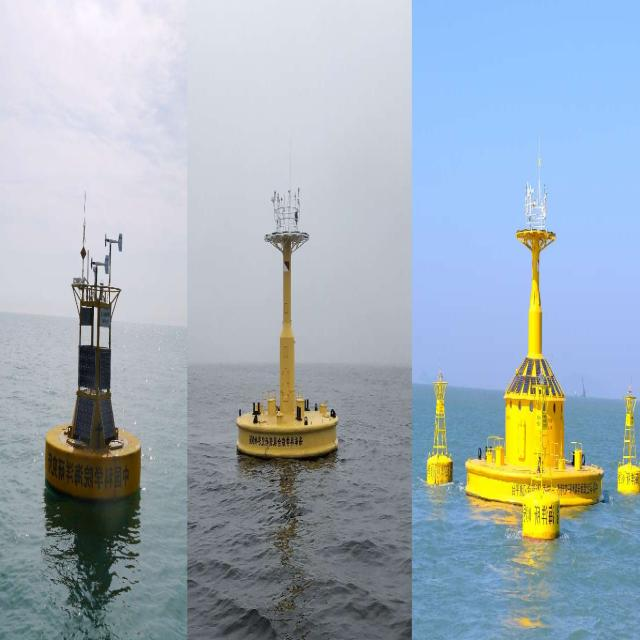buoy: (468, 171, 606, 498), (235, 174, 338, 459), (44, 220, 142, 504), (520, 376, 560, 537), (425, 368, 455, 486), (618, 374, 640, 495)
